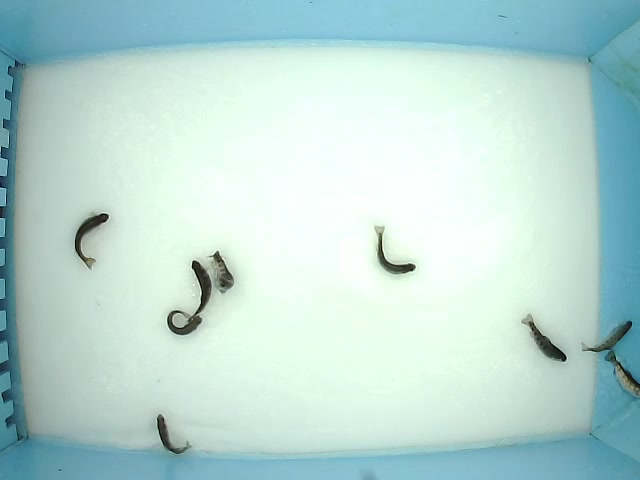fish: (519, 311, 569, 364), (372, 223, 416, 274), (74, 210, 110, 270), (580, 318, 634, 353), (604, 350, 640, 399), (186, 260, 213, 321), (156, 413, 192, 455), (206, 249, 235, 295), (166, 309, 204, 337)
